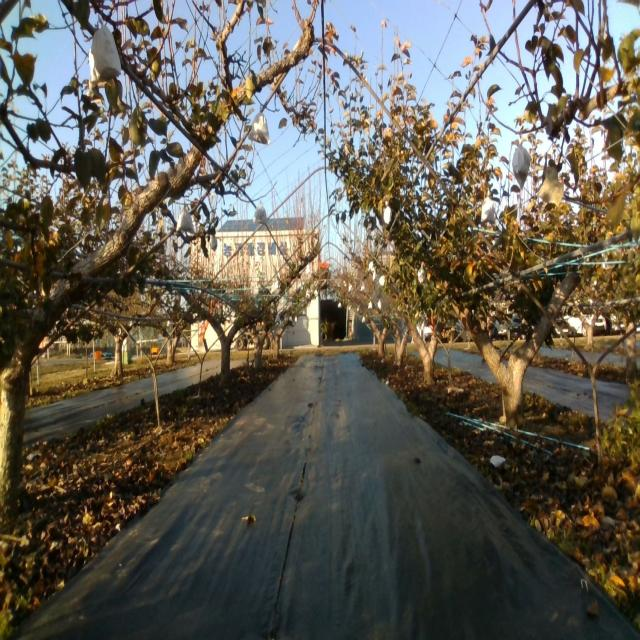pearbags: (86, 23, 122, 88), (512, 143, 531, 188), (248, 112, 268, 144), (175, 209, 195, 234), (480, 198, 496, 225), (254, 202, 268, 227)
